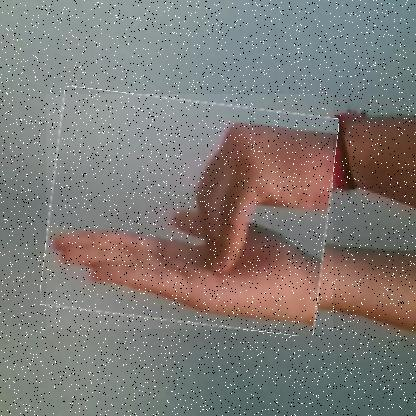Z: (45, 94, 333, 330)
